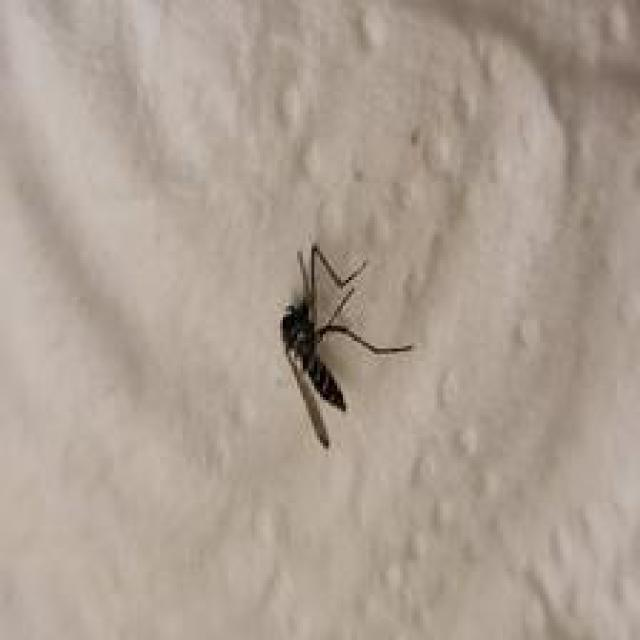Aedes albopictus: (277, 240, 414, 449)
